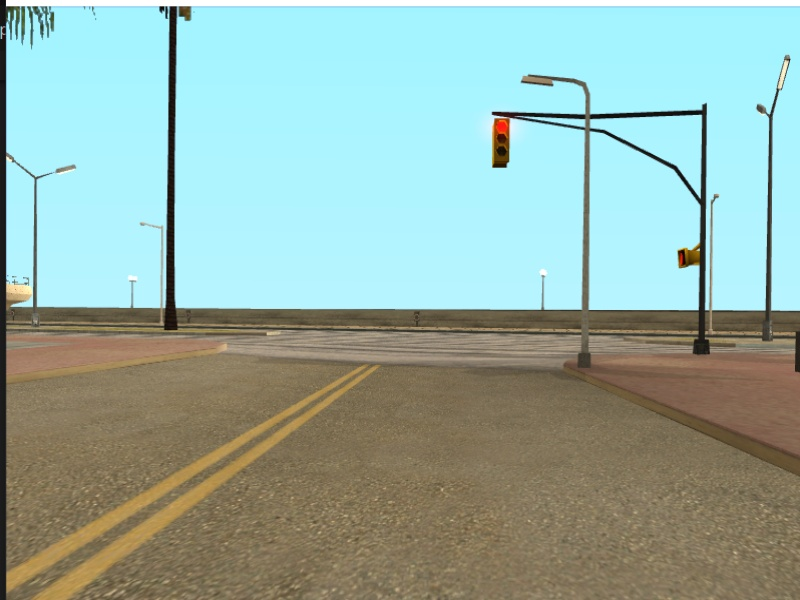pole: (572, 83, 600, 361), (691, 103, 716, 354), (762, 111, 782, 347), (27, 177, 51, 325), (709, 199, 719, 336), (156, 227, 166, 330)
tree: (159, 13, 186, 339)
